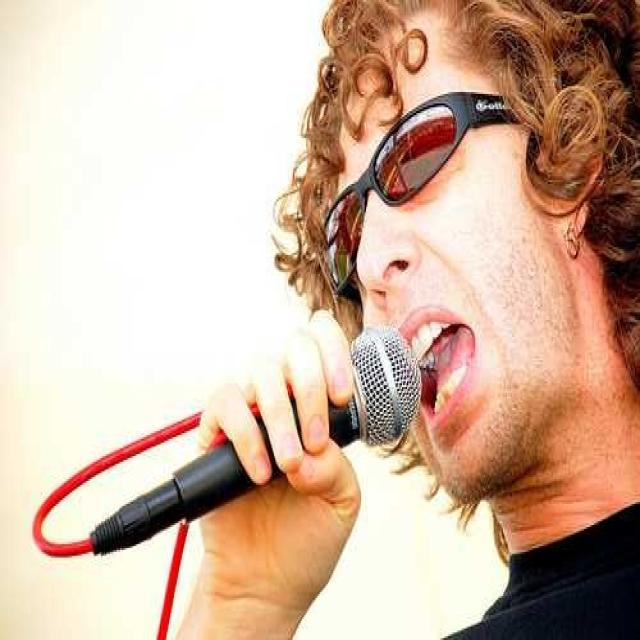microphone: (82, 321, 430, 551)
